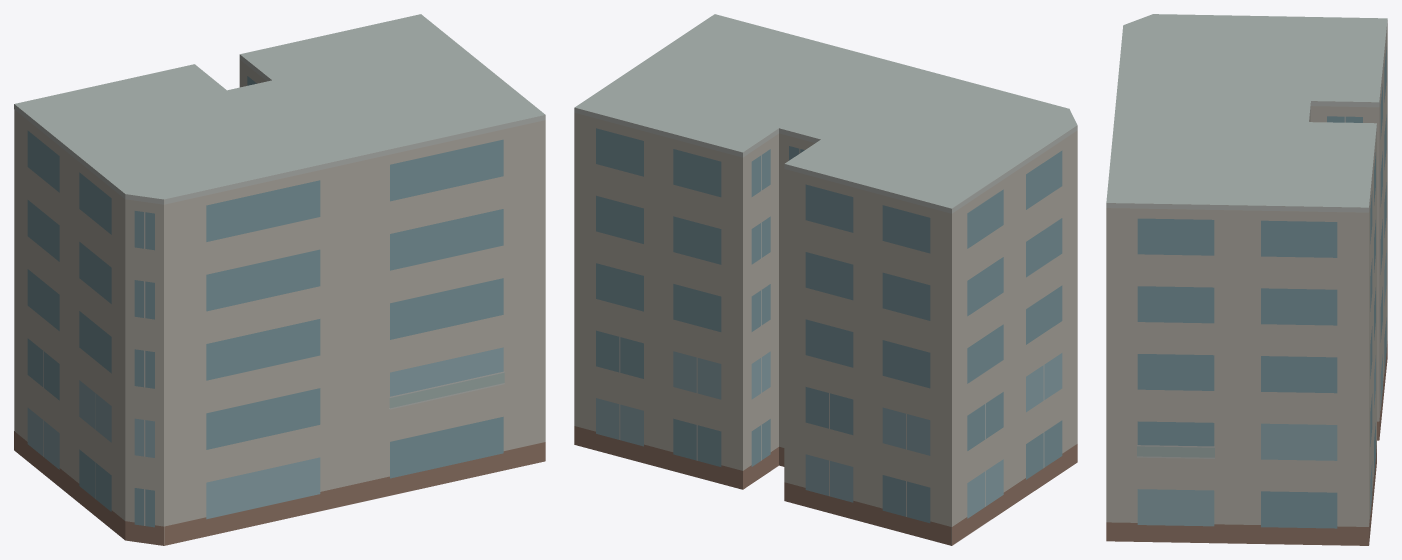
Rendered from survey-upis-32990651.glb.
The picture shows the model from 3 angles, left to right: view 1: azimuth 30°, elevation 25°; view 2: azimuth 150°, elevation 25°; view 3: azimuth 270°, elevation 25°; orthographic projection. The views are drawn at different scales.
Visible parts, largest first — view 1: survey-upis-32990651.tmp; view 2: survey-upis-32990651.tmp; view 3: survey-upis-32990651.tmp.
Part boxes in pixels (box(x1,y1,x2,y2)): survey-upis-32990651.tmp: box(14, 14, 545, 545); survey-upis-32990651.tmp: box(574, 14, 1077, 545); survey-upis-32990651.tmp: box(1106, 14, 1387, 545).
Size of the model in its own units: 19.83 by 16.15 by 12.18.
